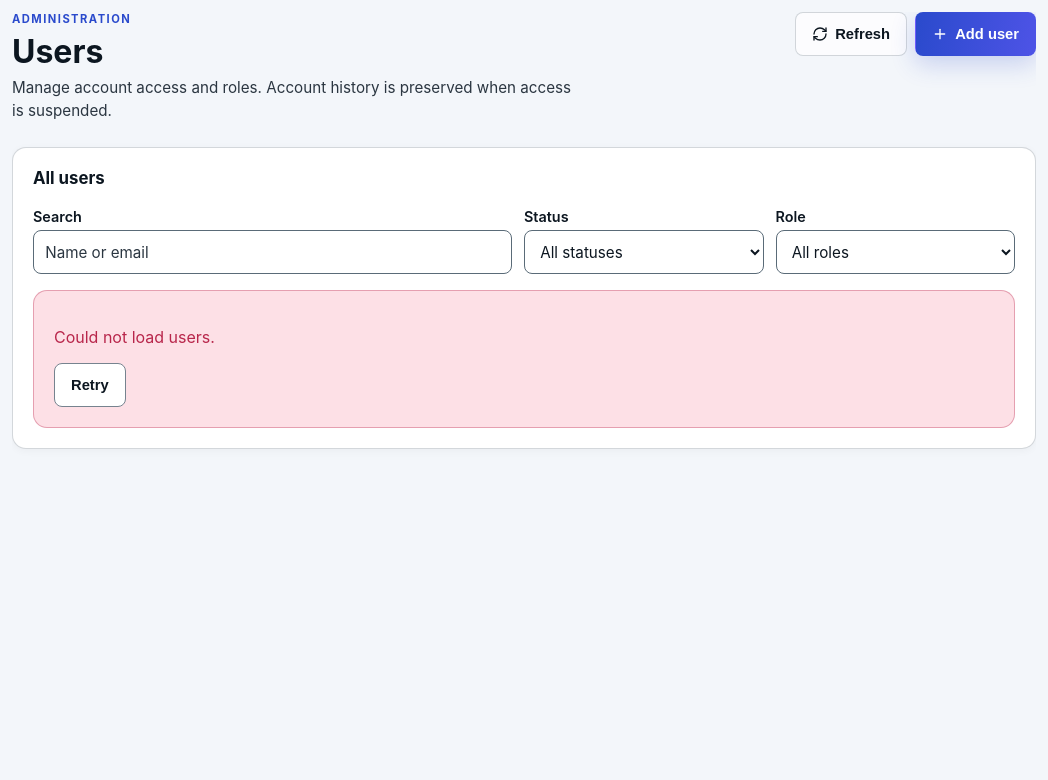
Test: UsersPage › offers Retry when the list cannot be loaded
Expected: the message shows "Could not load users.", x1=54 y1=327 x2=215 y2=347
Click the button "Retry" at [90, 385], box x1=54 y1=363 x2=126 y2=407
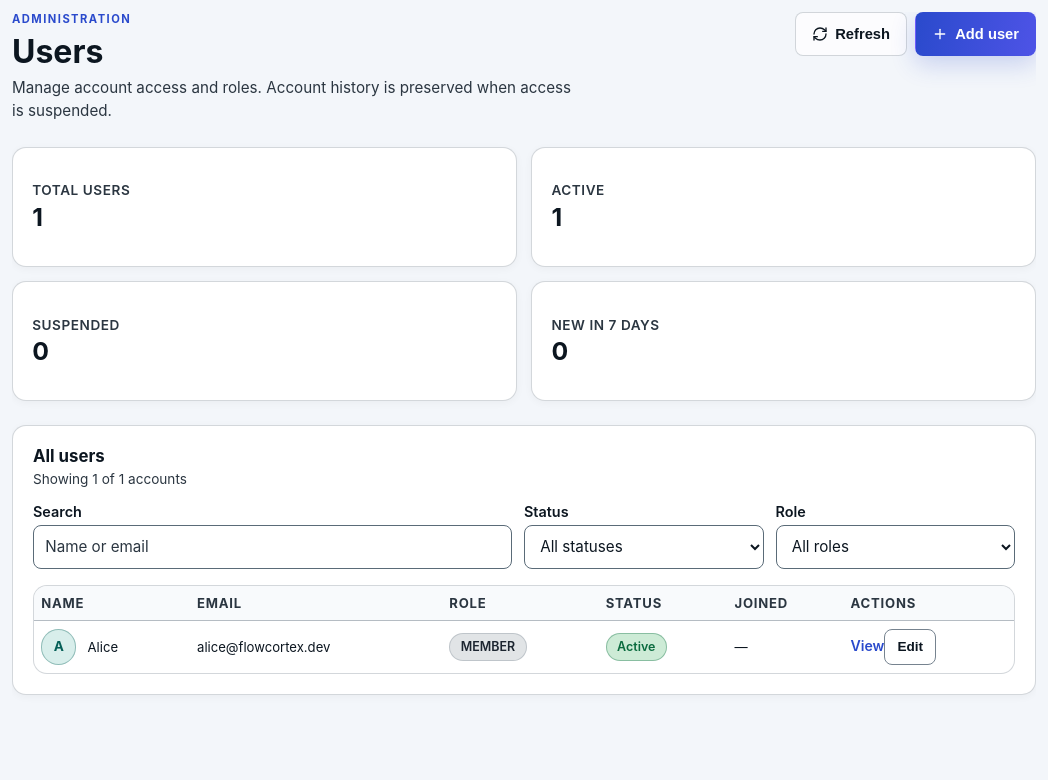
Expected: the text "alice@flowcortex.dev" is shown, x1=190 y1=620 x2=442 y2=673
Expected: the message "Could not load users. Retry" is gone
